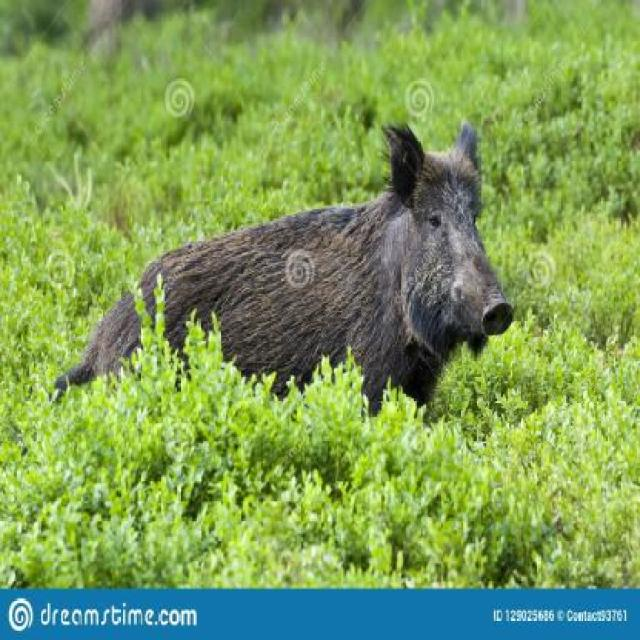wildboar: (42, 118, 520, 420)
